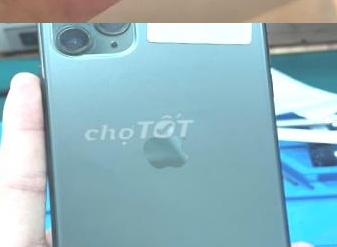scratch: (47, 23, 133, 55)
